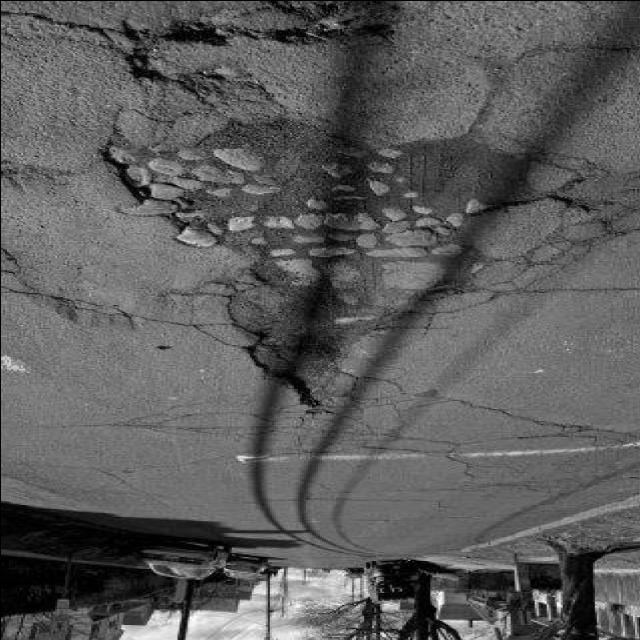jalan retak: (0, 0, 434, 80), (160, 381, 466, 469), (1, 232, 170, 358), (428, 235, 612, 348), (205, 455, 448, 531), (540, 122, 640, 303), (420, 383, 638, 459), (1, 398, 260, 454), (436, 437, 630, 508), (1, 450, 190, 522), (456, 24, 630, 100), (139, 258, 251, 368), (0, 143, 119, 215)
lubang: (74, 104, 590, 402)
